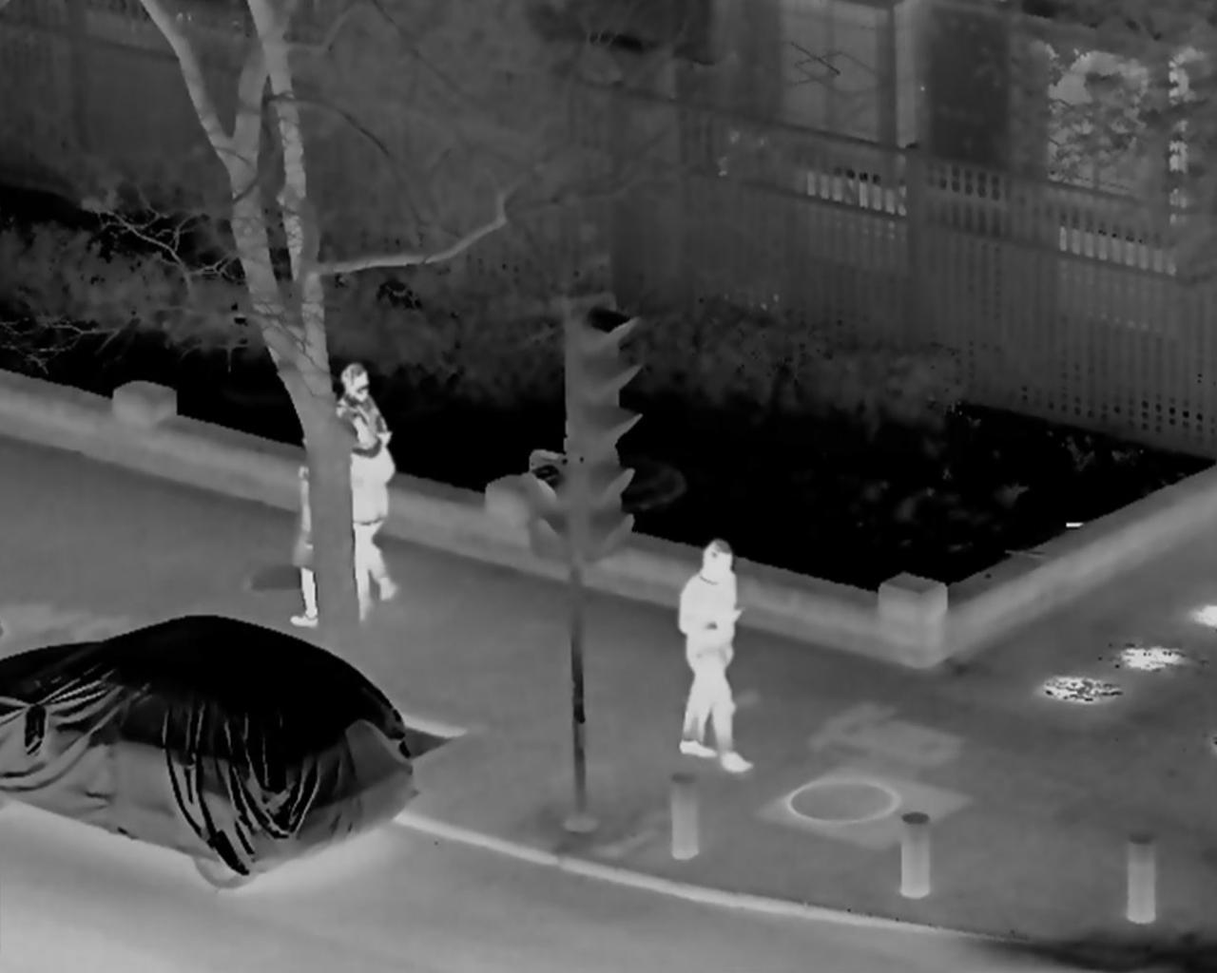person: (670, 538, 749, 773), (323, 359, 394, 579), (290, 429, 363, 620), (333, 402, 396, 616)
